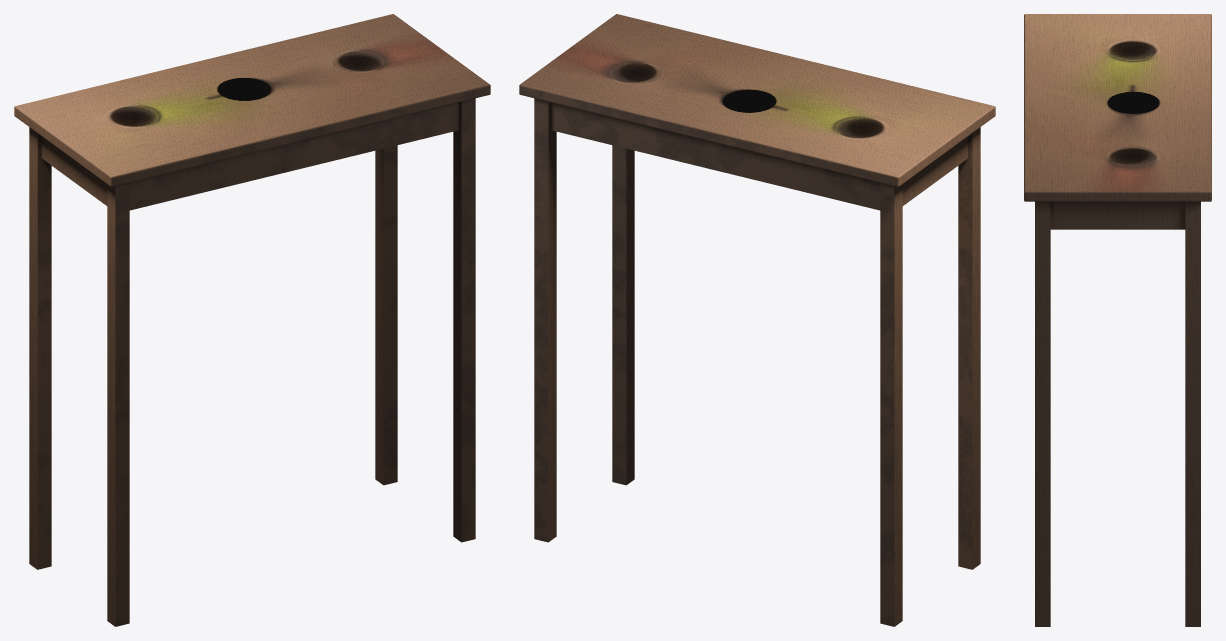
File: 808_hal.glb
The picture shows the model from 3 angles, left to right: view 1: azimuth 30°, elevation 25°; view 2: azimuth 150°, elevation 25°; view 3: azimuth 270°, elevation 25°; orthographic projection. The views are drawn at different scales.
Visible parts, largest first — view 1: Table; view 2: Table; view 3: Table.
Part boxes in pixels (bbox=[...]): Table: bbox=[14, 14, 490, 626]; Table: bbox=[519, 14, 995, 626]; Table: bbox=[1024, 14, 1211, 626].
Size of what is drawn, in the model's own units: 2.7 by 3.1 by 1.2.
1 material, 1 textured.
